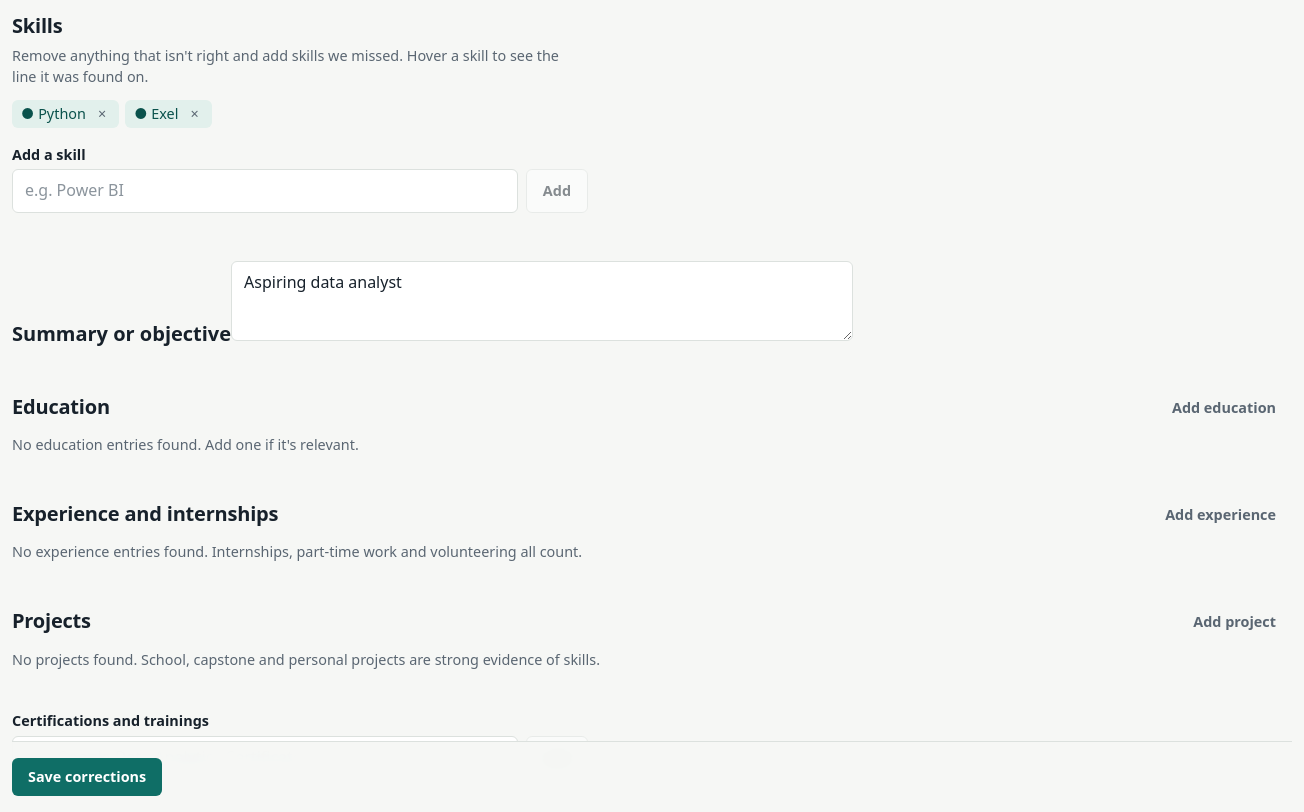
Test case: ResumeEditor (profile correction) › requires project names
Click the button "Add project" at coordinates (1235, 622), box [1177,603,1292,640]
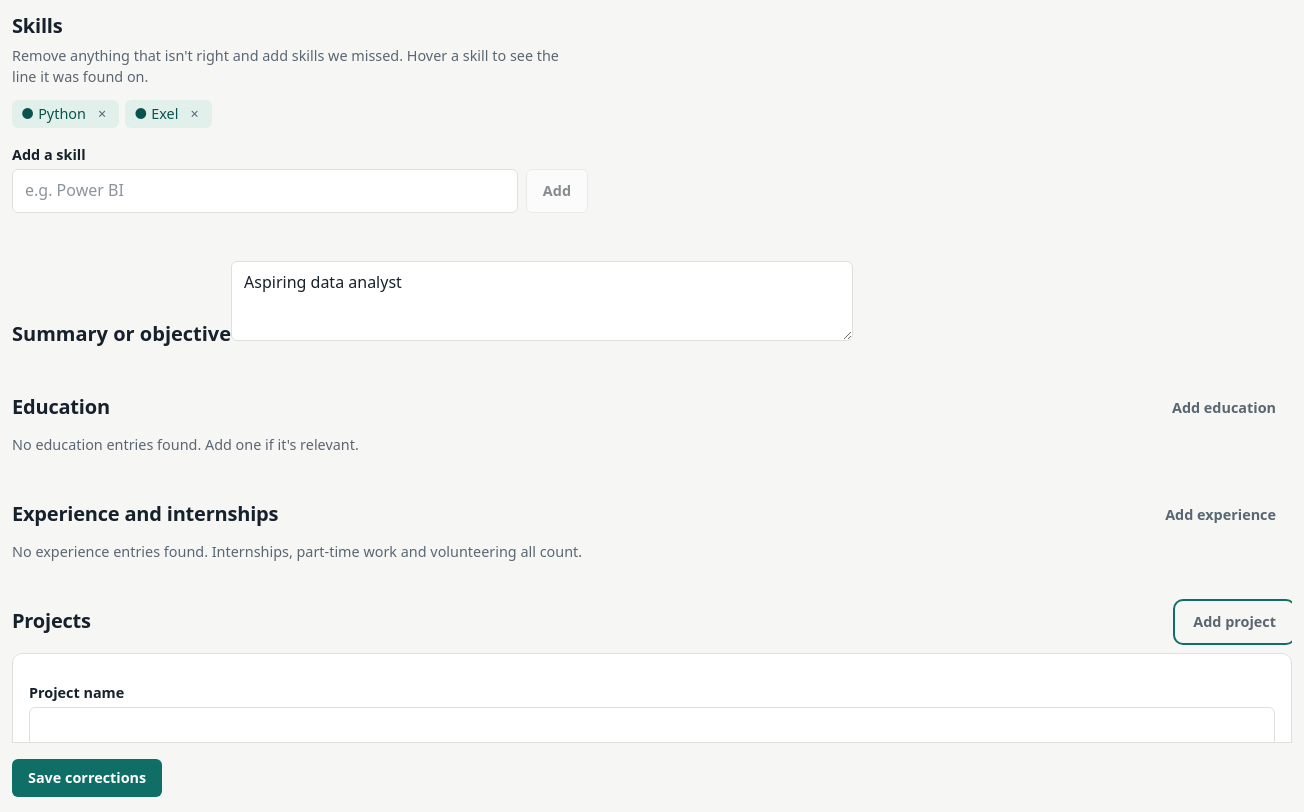
Click the button "Save corrections" at coordinates (87, 777), box [12,758,162,796]
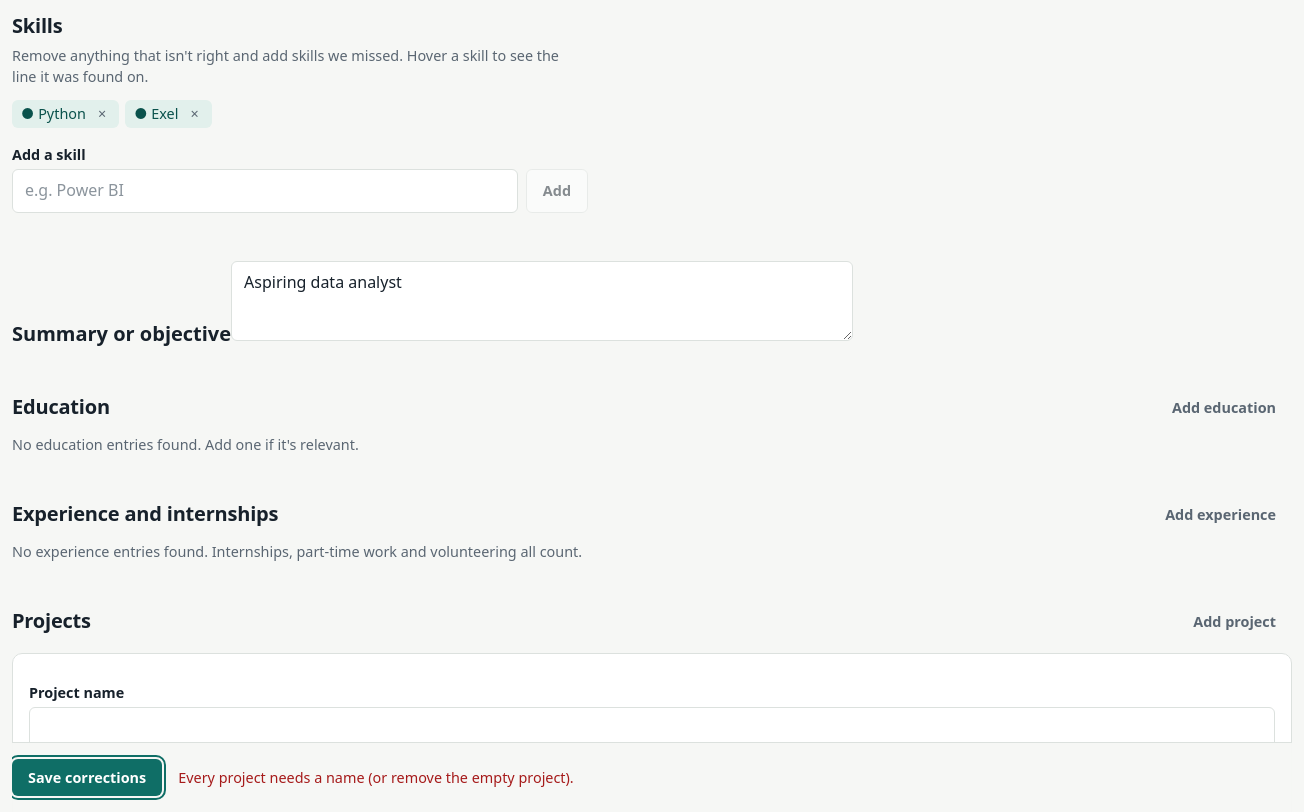
Check: the text "Every project needs a name (or remove the empty project)." is shown, box [178,766,574,788]
